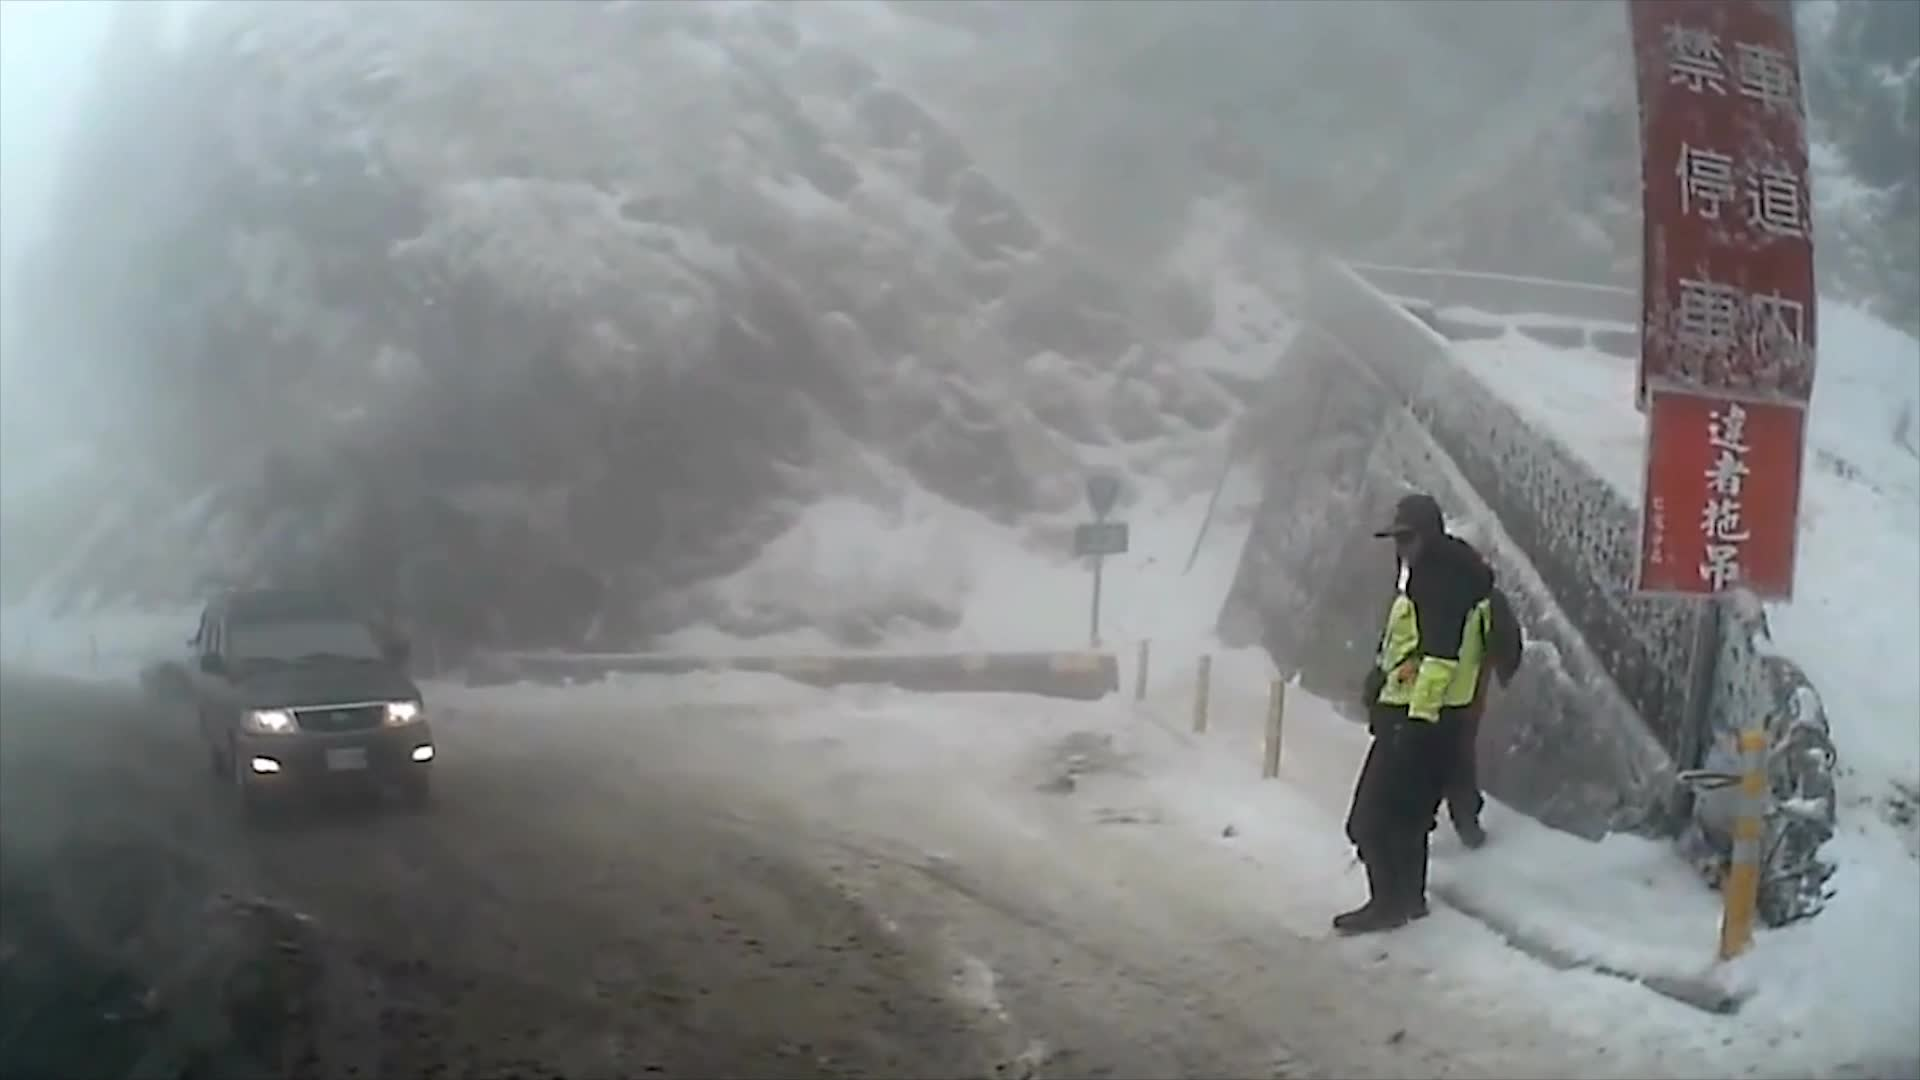pedestrian: (1346, 504, 1514, 952)
vehicle: (188, 585, 435, 822)
